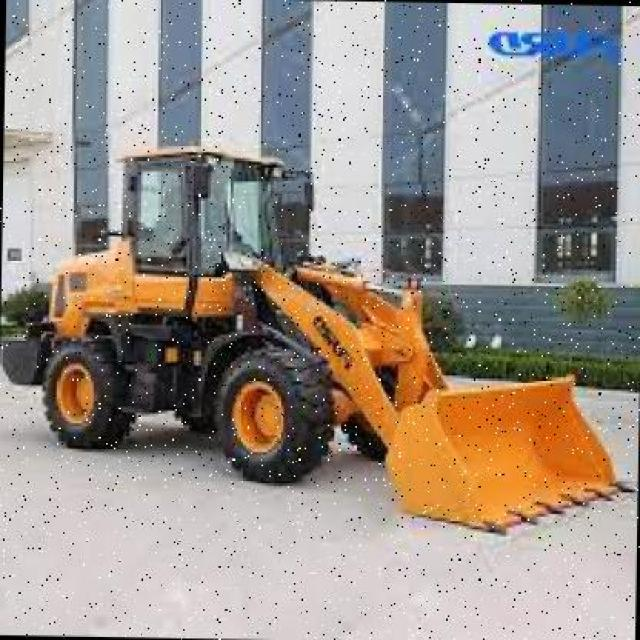buldozerpayloadergrader: (24, 132, 628, 533)
